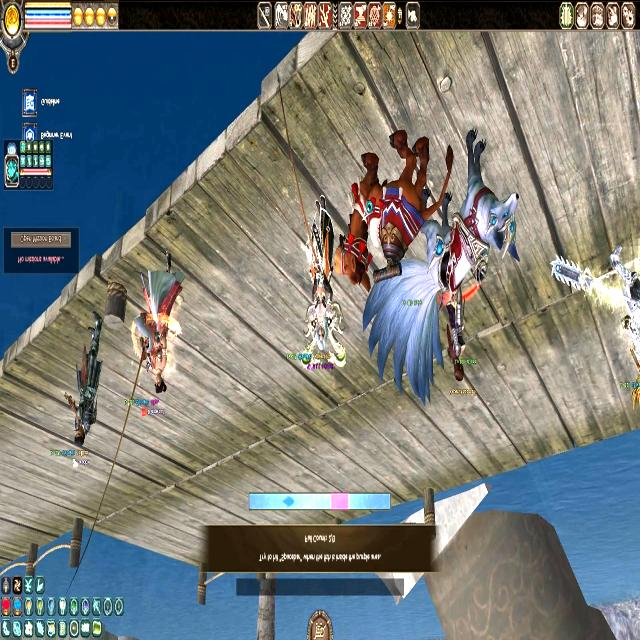fishes: (282, 495, 294, 509)
